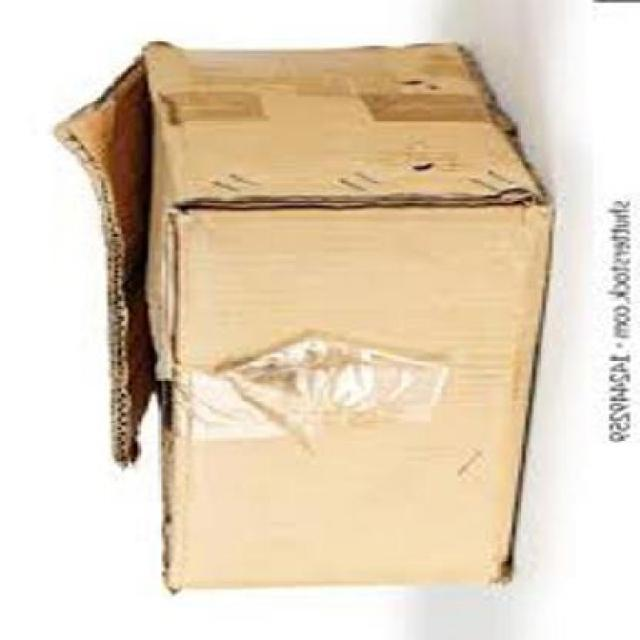defect: (79, 40, 552, 603)
